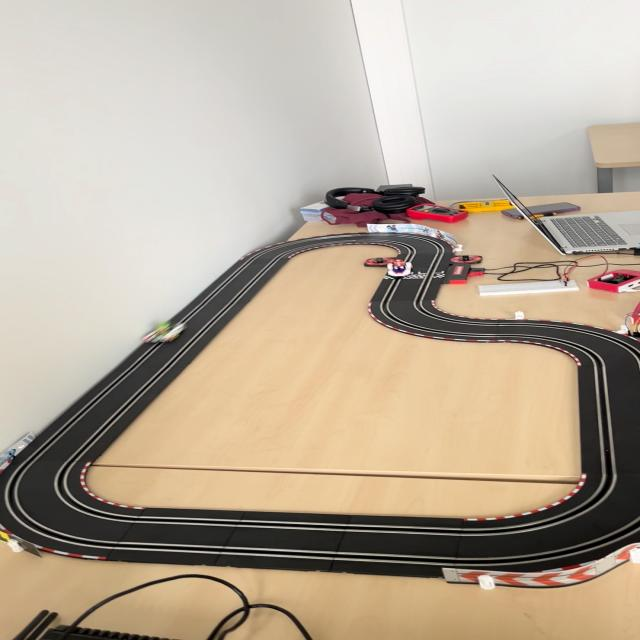mario: (383, 258, 413, 277)
yoshi: (142, 317, 182, 346)
